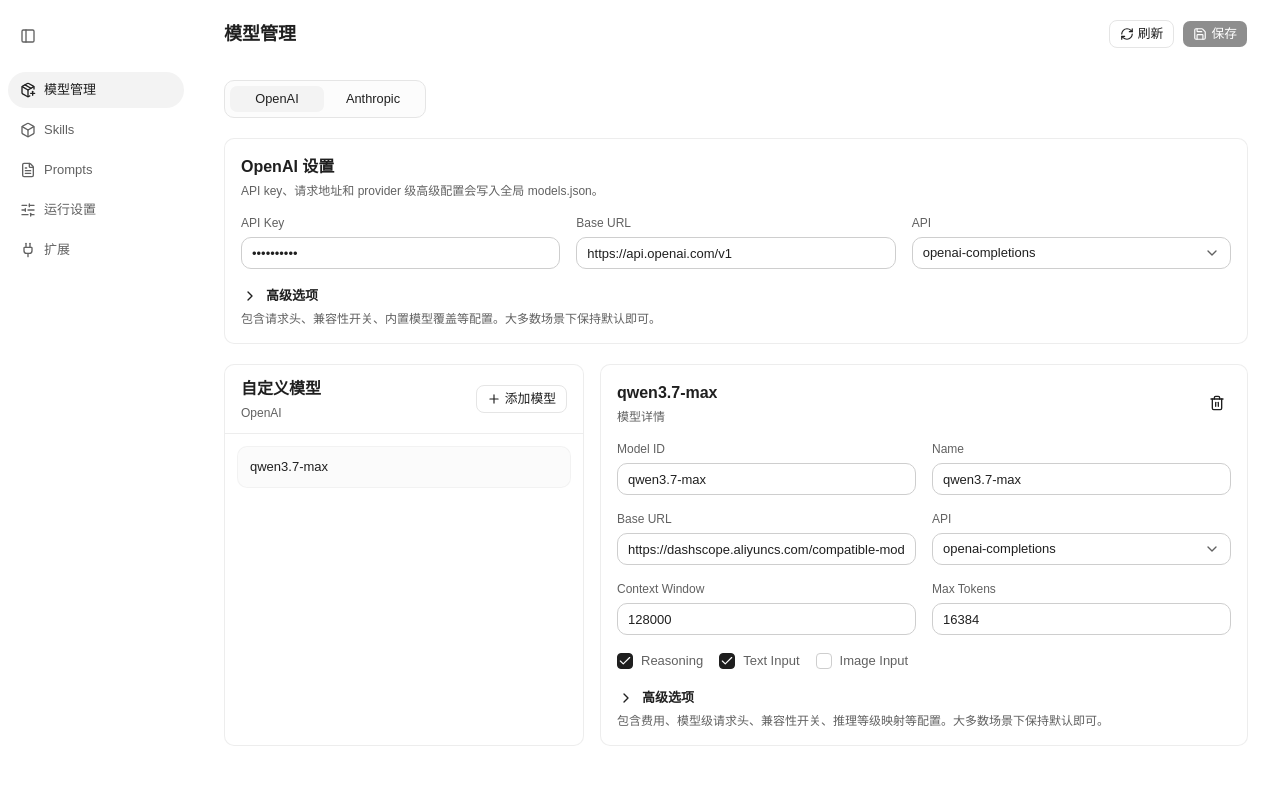
Test: SettingsApp › shows the inherited builtin tool profile for an unset project override
Click the button "运行设置" at (96, 210), box [8,192,184,228]
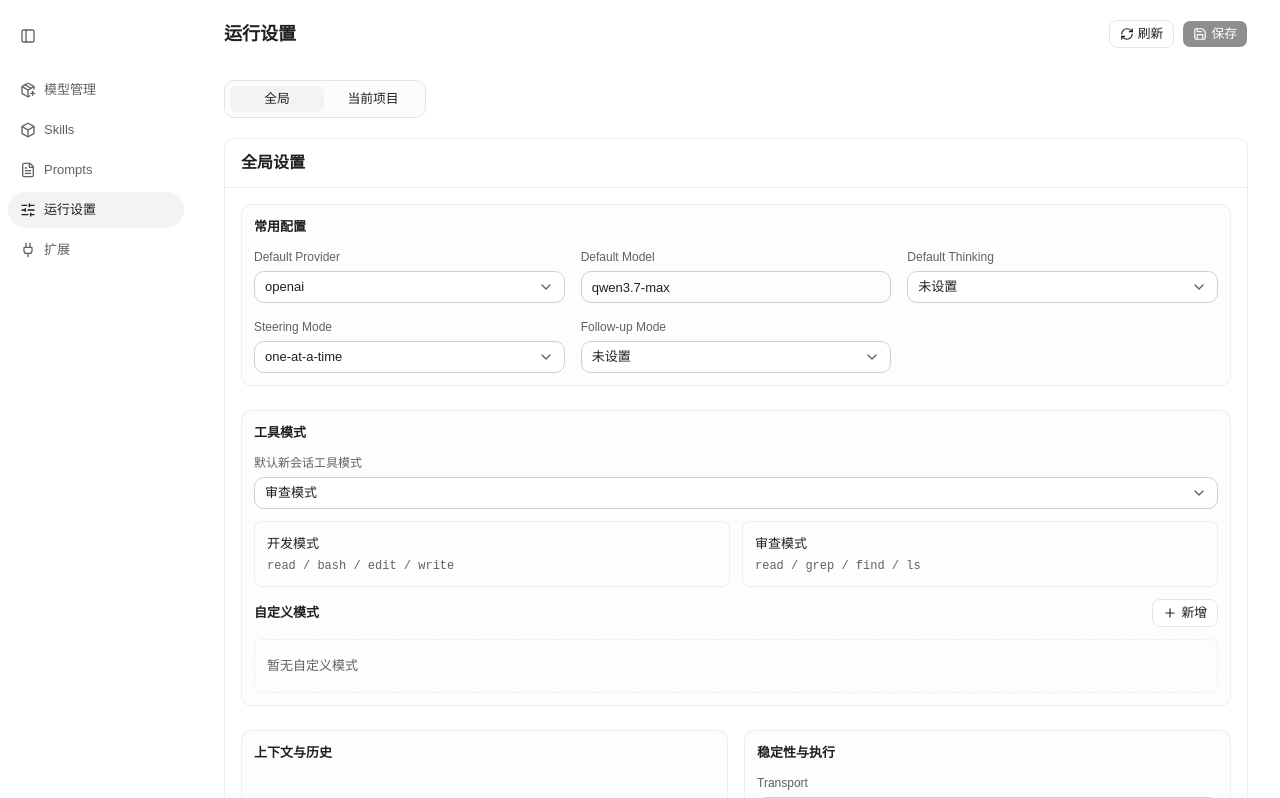
Click the button "当前项目" at (373, 99), box [325,85,421,113]
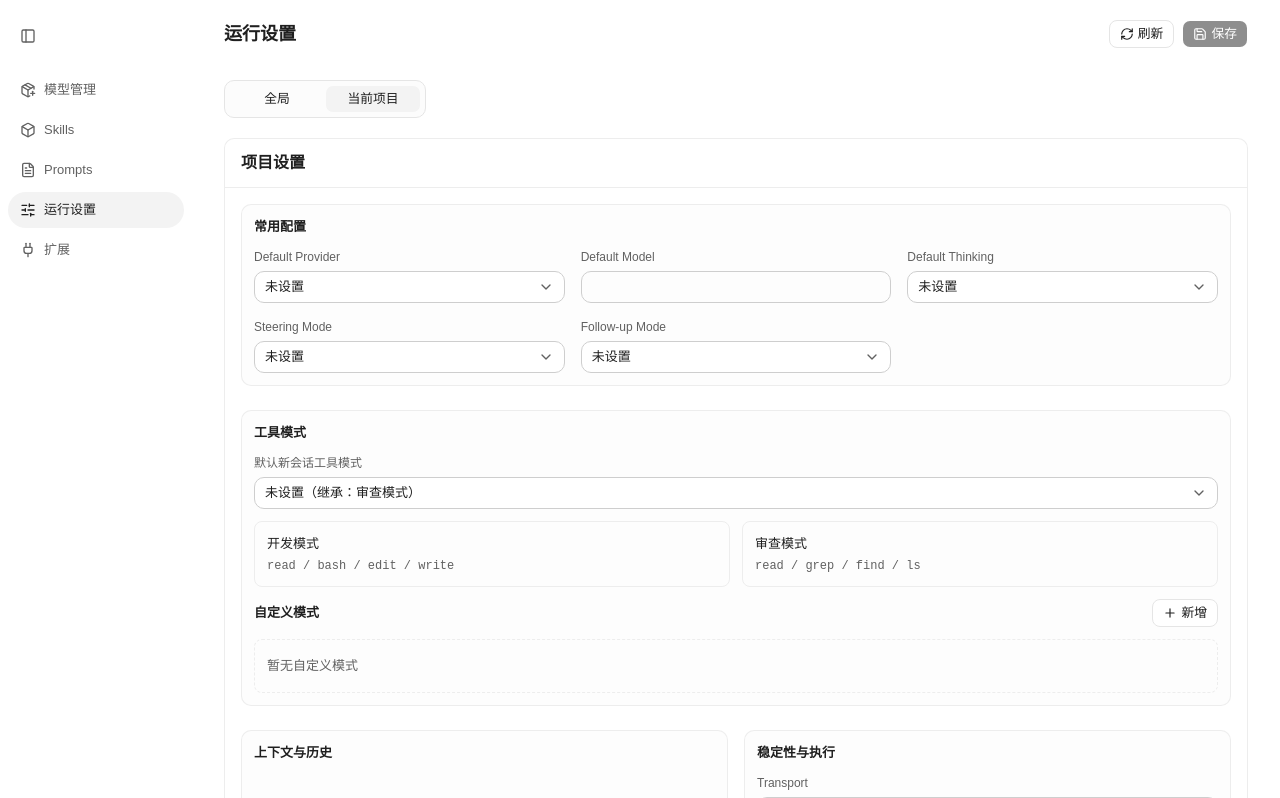
Result: the text "未设置（继承：审查模式）" is shown at [265,485,421,500]
